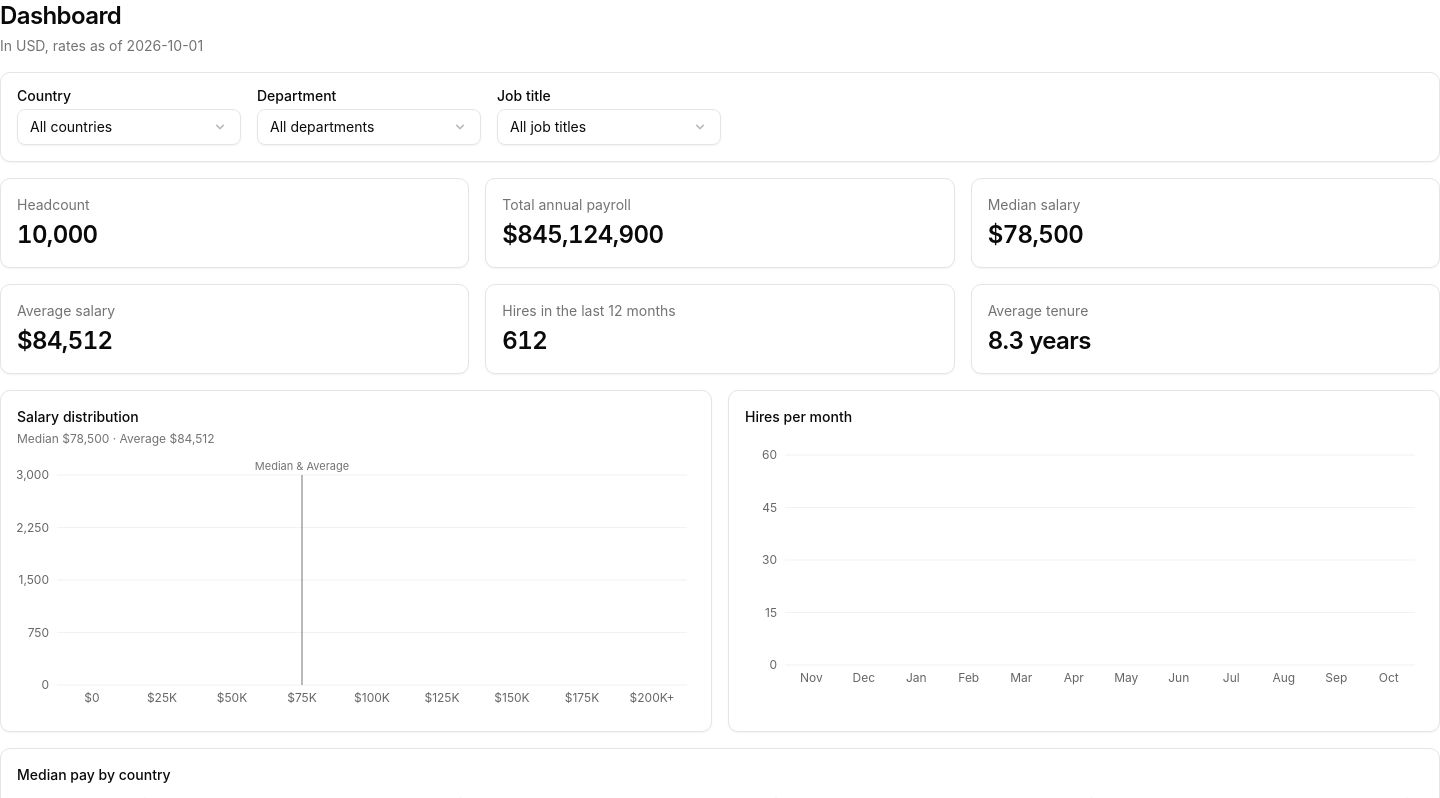
Scenario: DashboardPage › narrows everything to the chosen job title and keeps it in the URL
The width and height of the screenshot is (1440, 798).
Press Enter in the dropdown labelled "job title", box [497,109,721,145]
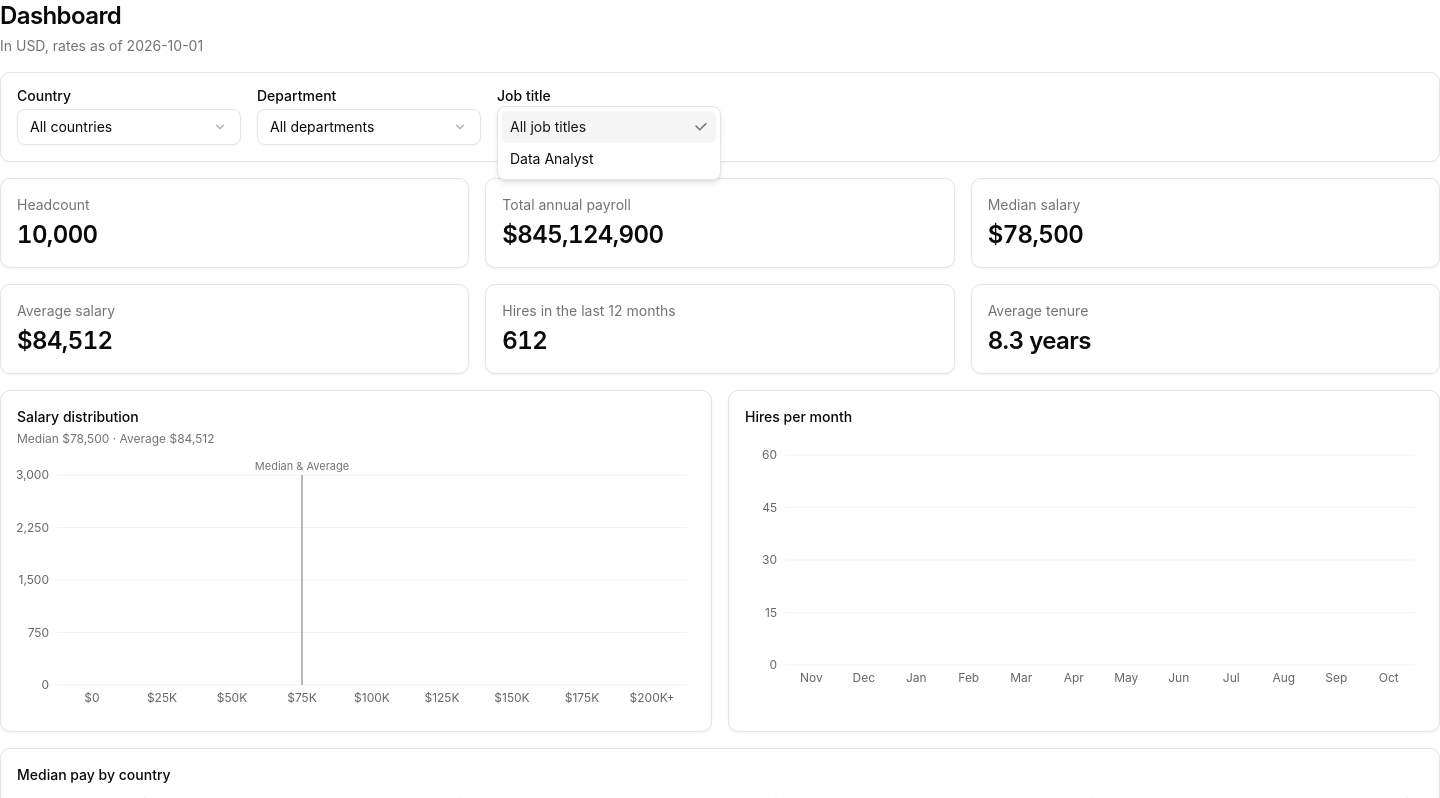
Click the option "Data Analyst": click(552, 158) [510,150,594,167]
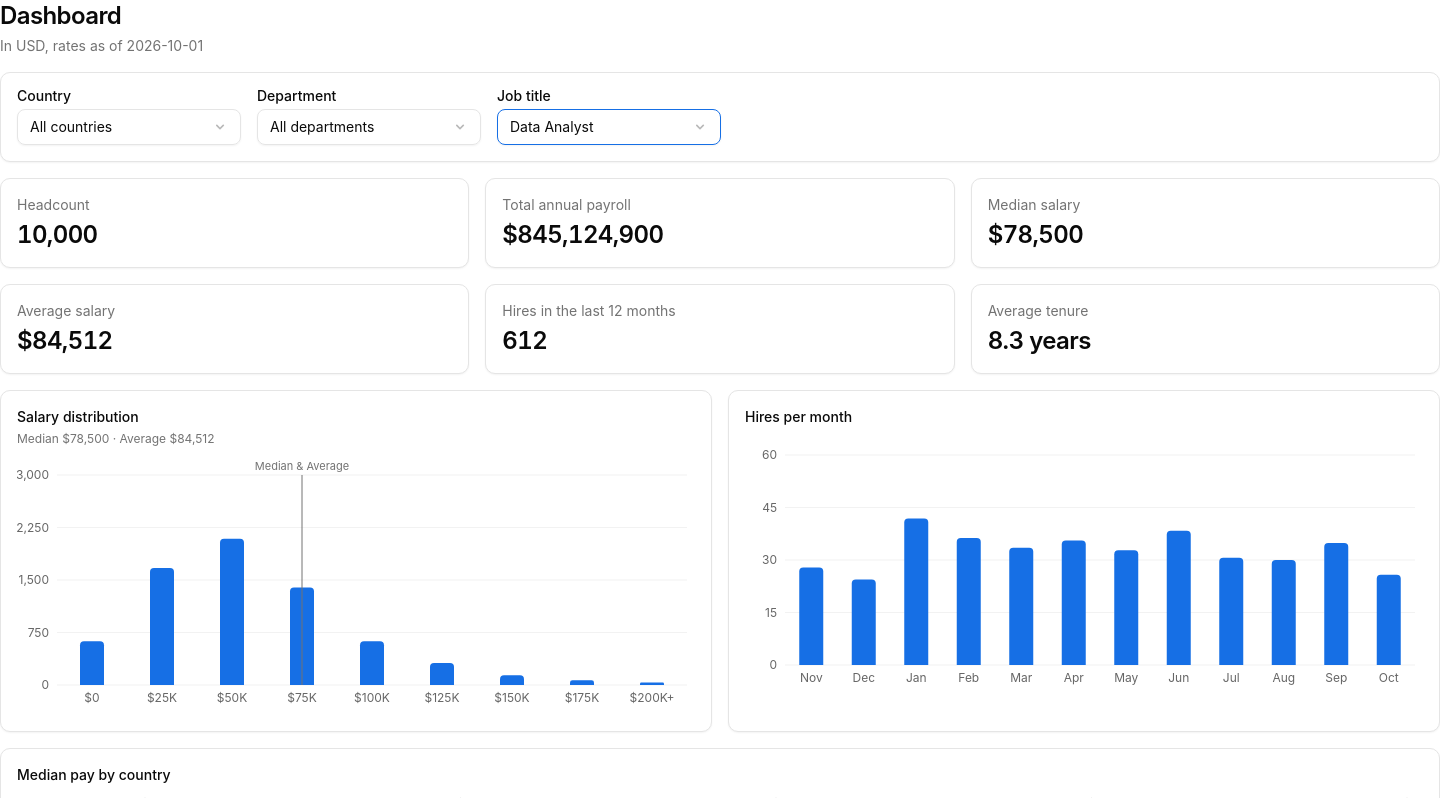
Expected: the text "Data Analyst" is shown, [510,117,594,137]
